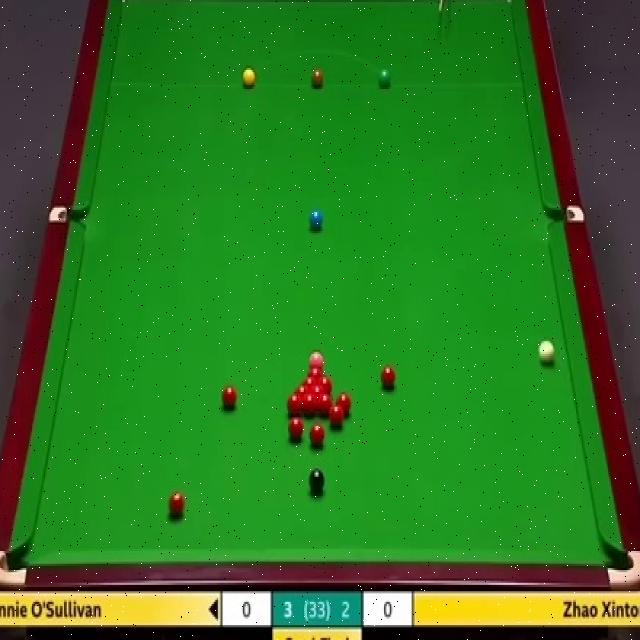black-ball: (309, 468, 326, 496)
blue-ball: (309, 210, 323, 230)
brown-ball: (311, 69, 324, 89)
green-ball: (378, 68, 392, 89)
pink-ball: (308, 349, 324, 364)
red-ball: (168, 490, 186, 520), (220, 386, 238, 412), (288, 417, 305, 441), (309, 423, 325, 448), (381, 366, 396, 391), (318, 393, 333, 418), (286, 393, 302, 416), (336, 393, 351, 417), (302, 392, 316, 415), (329, 406, 343, 428), (318, 375, 332, 392), (305, 364, 324, 374), (309, 384, 326, 394), (302, 375, 318, 385), (294, 385, 309, 394)
white-ball: (539, 338, 555, 366)
yellow-ball: (241, 68, 255, 88)
